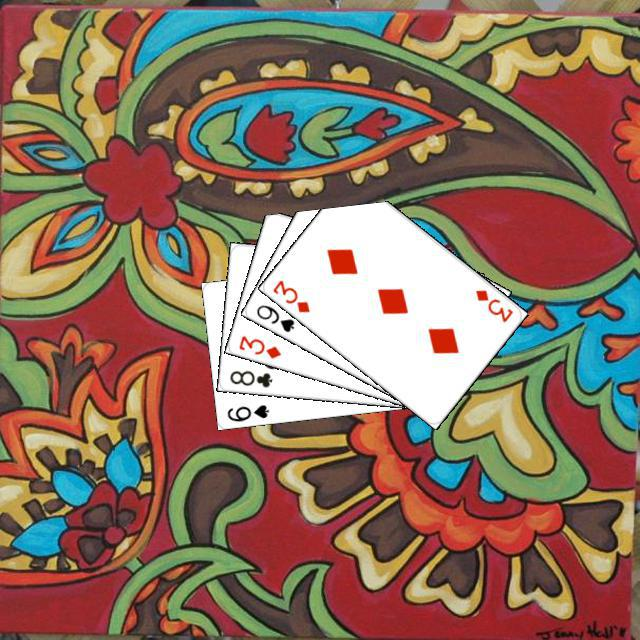3d: (470, 285, 515, 324), (268, 275, 312, 314), (234, 330, 283, 360)
6s: (222, 400, 270, 423)
8c: (225, 365, 274, 389)
9s: (251, 300, 296, 334)
